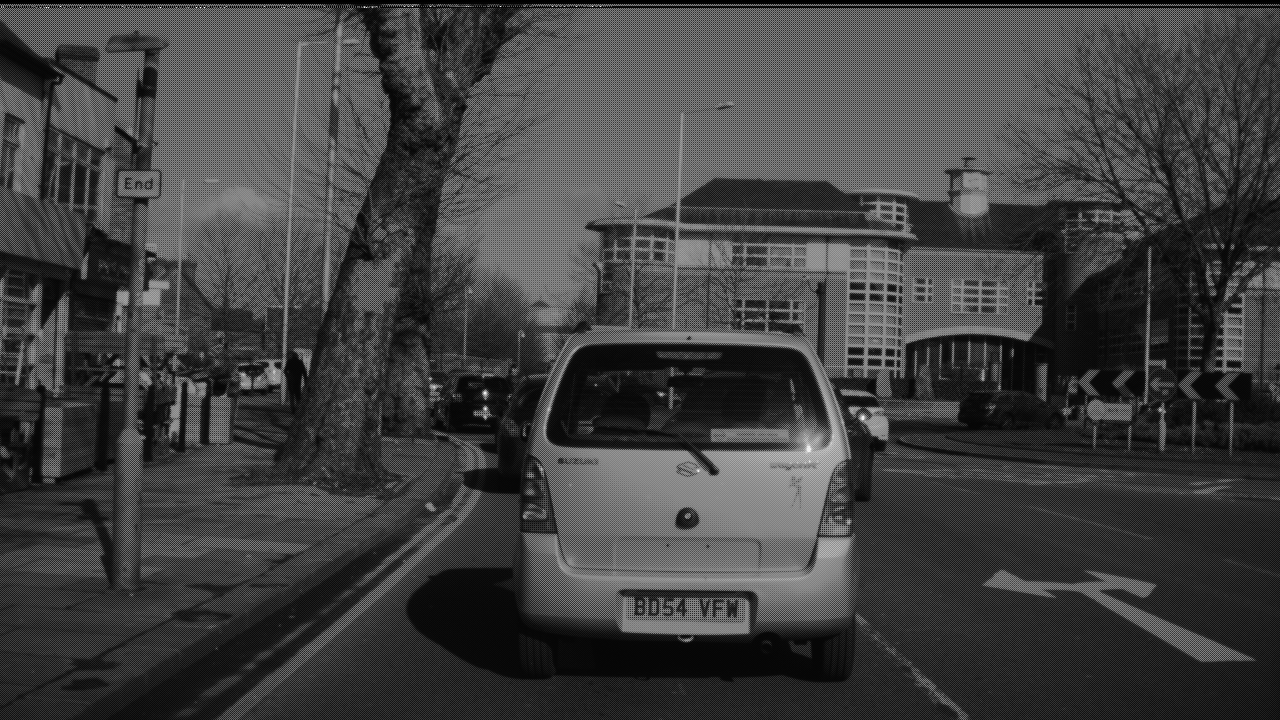pole: (112, 52, 163, 588), (280, 42, 303, 404), (320, 17, 343, 319), (671, 111, 689, 328), (625, 206, 638, 328)
